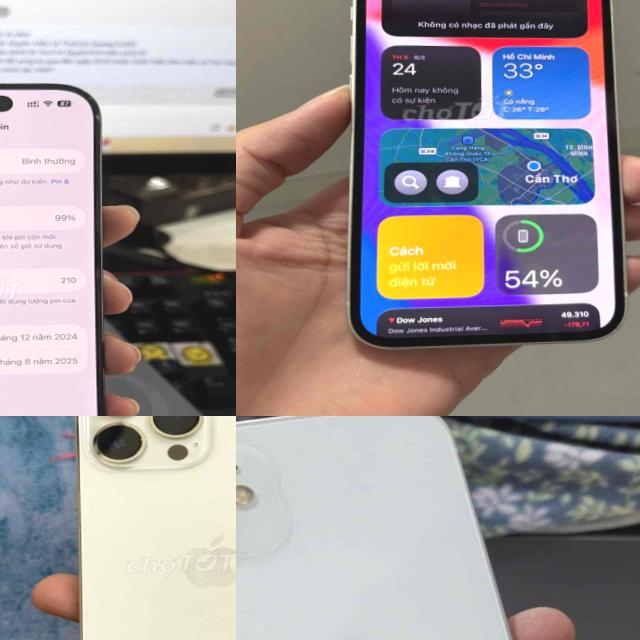gen_12_13: (333, 0, 634, 351), (236, 416, 586, 640), (74, 416, 236, 640)
gen_16: (0, 84, 103, 416)
